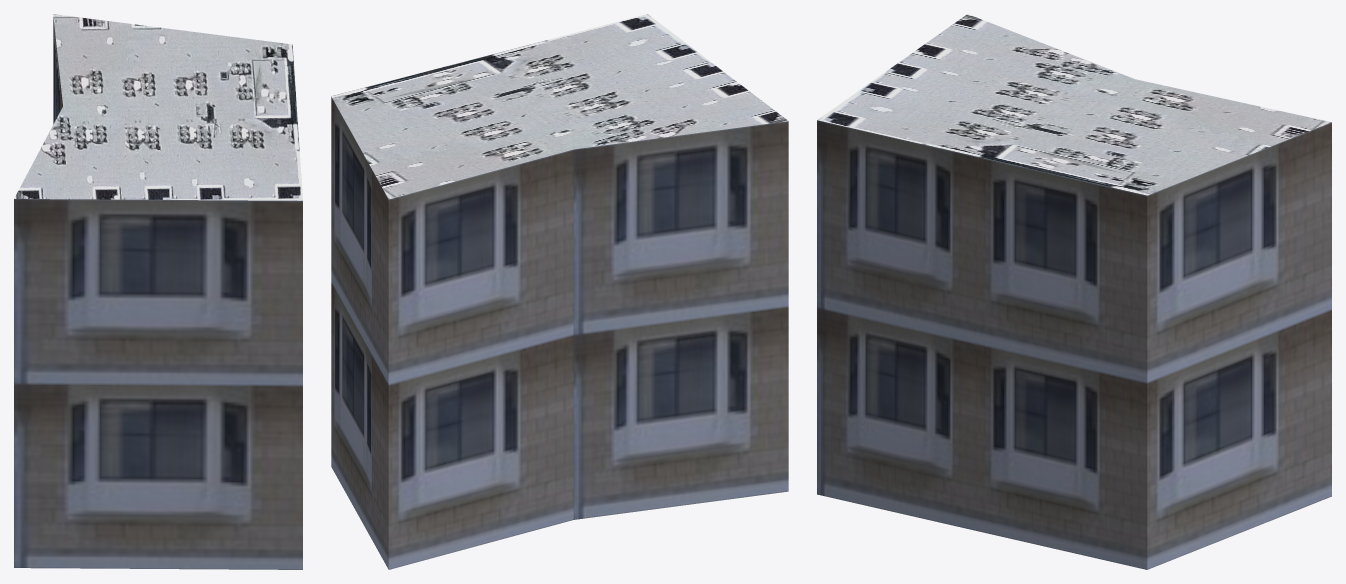
Rendered from ResTex__1916.fbx.
3 views of the same model, side by side, from view 1: azimuth 30°, elevation 25°; view 2: azimuth 150°, elevation 25°; view 3: azimuth 270°, elevation 25° (orthographic).
Visible parts, largest first — view 1: CityEngineMaterial_3_m, CityEngineMaterial_2_m; view 2: CityEngineMaterial_3_m, CityEngineMaterial_2_m; view 3: CityEngineMaterial_3_m, CityEngineMaterial_2_m.
Boxes of the visible parts, x1=… form: CityEngineMaterial_3_m: x1=14, y1=17, x2=302, y2=569; CityEngineMaterial_2_m: x1=14, y1=14, x2=302, y2=200; CityEngineMaterial_3_m: x1=331, y1=97, x2=788, y2=569; CityEngineMaterial_2_m: x1=331, y1=14, x2=787, y2=199; CityEngineMaterial_3_m: x1=817, y1=120, x2=1331, y2=569; CityEngineMaterial_2_m: x1=817, y1=14, x2=1331, y2=195.
Bounding box in the file's own units: 6.25 × 6 × 7.48.
Materials: 2 (2 with a texture image).
